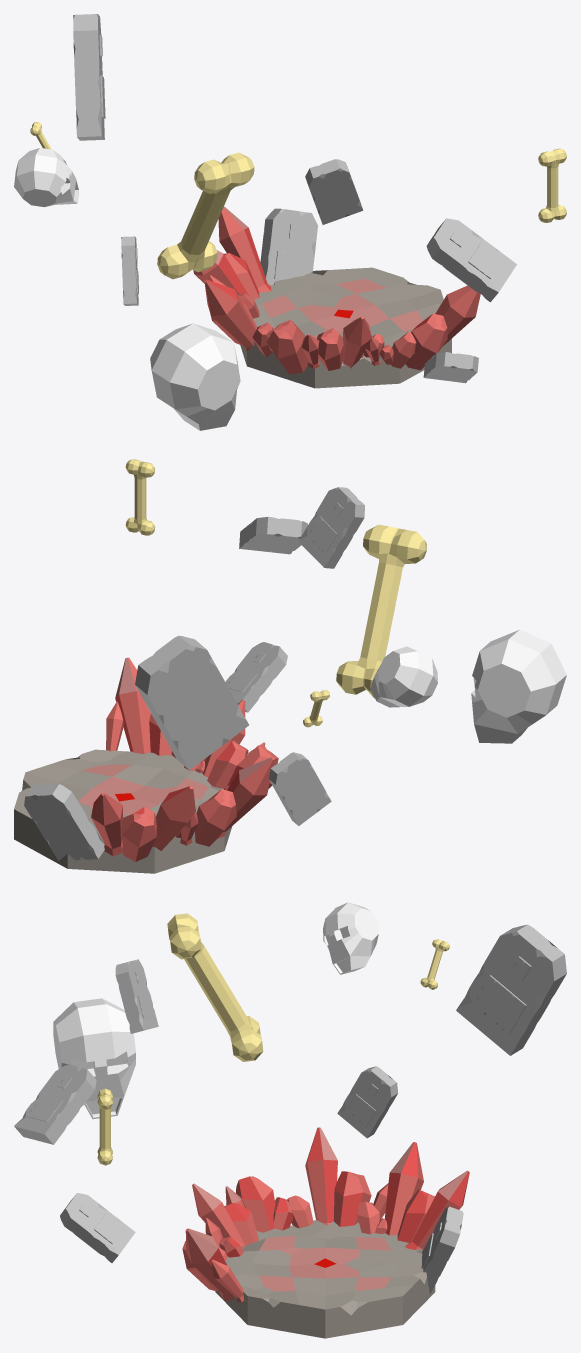
The model's file is Точка спавна.fbx.
3 renders of one model, top to bottom at view 1: azimuth 30°, elevation 25°; view 2: azimuth 150°, elevation 25°; view 3: azimuth 270°, elevation 25°, orthographic. The views are drawn at different scales.
Parts seen in each view (by area): view 1: Cube; view 2: Cube; view 3: Cube.
Boxes of the visible parts, x1,y1,x2,y2 form: Cube: (14, 14, 566, 430); Cube: (14, 459, 566, 873); Cube: (14, 902, 566, 1338).
Bounding box in the file's own units: 437 × 290 × 503.
